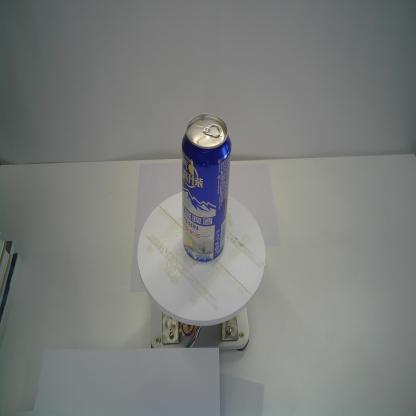Alcohol: (180, 111, 232, 264)
